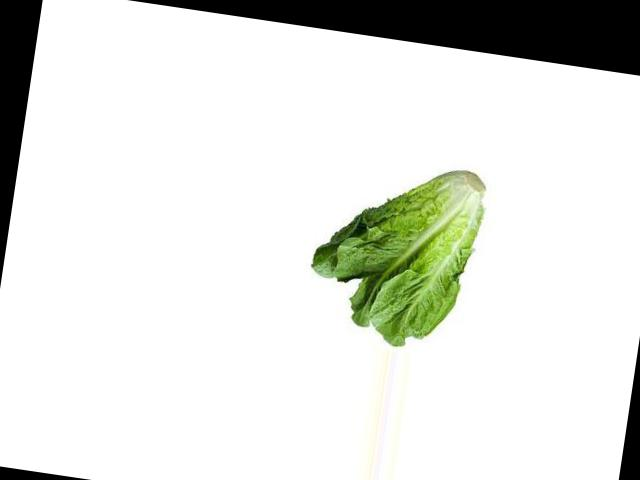lettuce: (225, 197, 401, 336)
